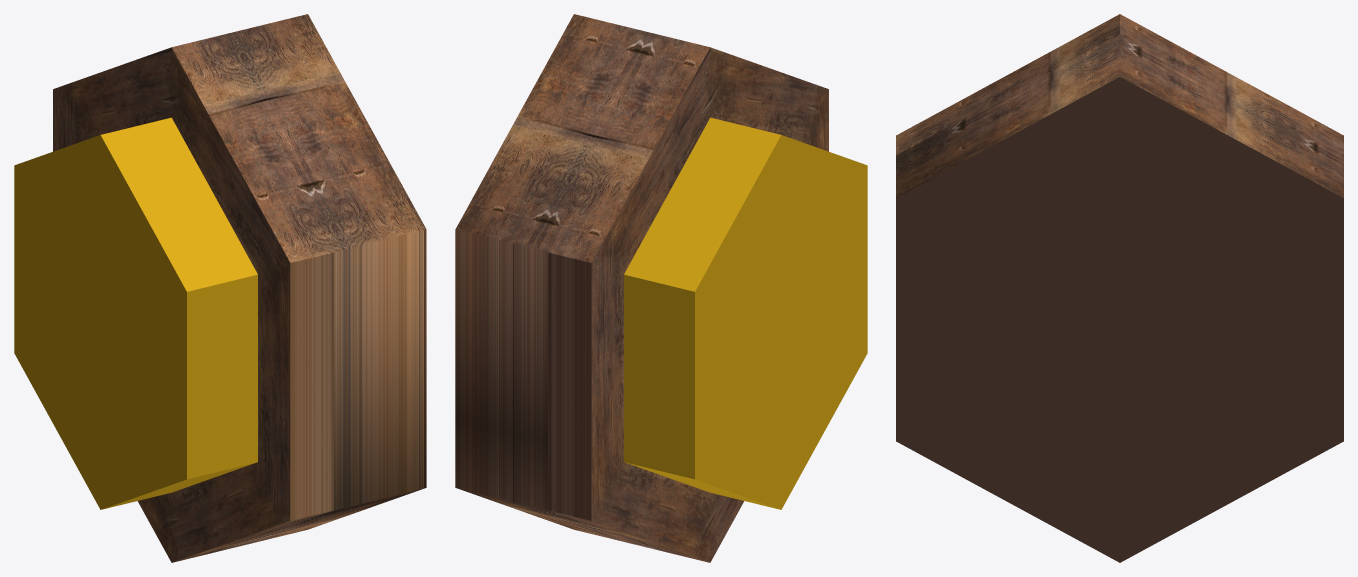
Rendered from button.FBX.
3 views of the same model, side by side, from view 1: azimuth 30°, elevation 25°; view 2: azimuth 150°, elevation 25°; view 3: azimuth 270°, elevation 25° (orthographic). The views are drawn at different scales.
Parts seen in each view (by area): view 1: Button; view 2: Button; view 3: Button.
Part boxes in pixels (x1,y1,x2,y2): Button: (14, 14, 426, 562); Button: (455, 14, 867, 562); Button: (896, 14, 1343, 562).
Size of the model in its own units: 1.1 by 2.61 by 2.18.
1 material, 1 textured.
